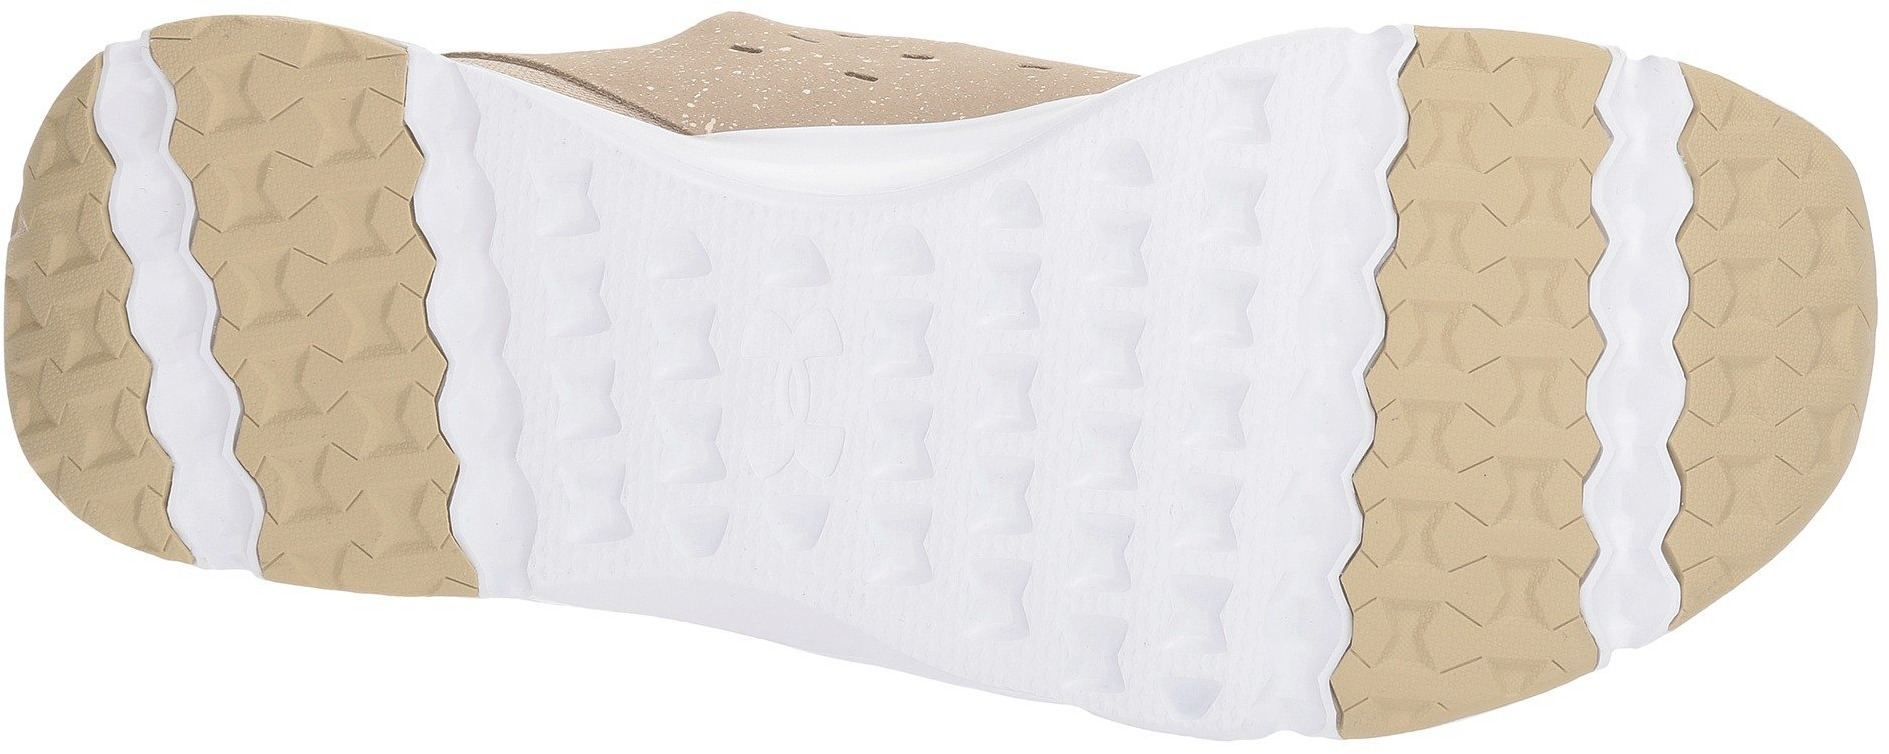bowtie: (952, 220, 1285, 534), (1367, 450, 1575, 648), (231, 278, 439, 476), (1396, 93, 1590, 279)
chevron: (704, 301, 882, 483)
ribbon: (63, 92, 245, 272), (1550, 281, 1729, 454)
